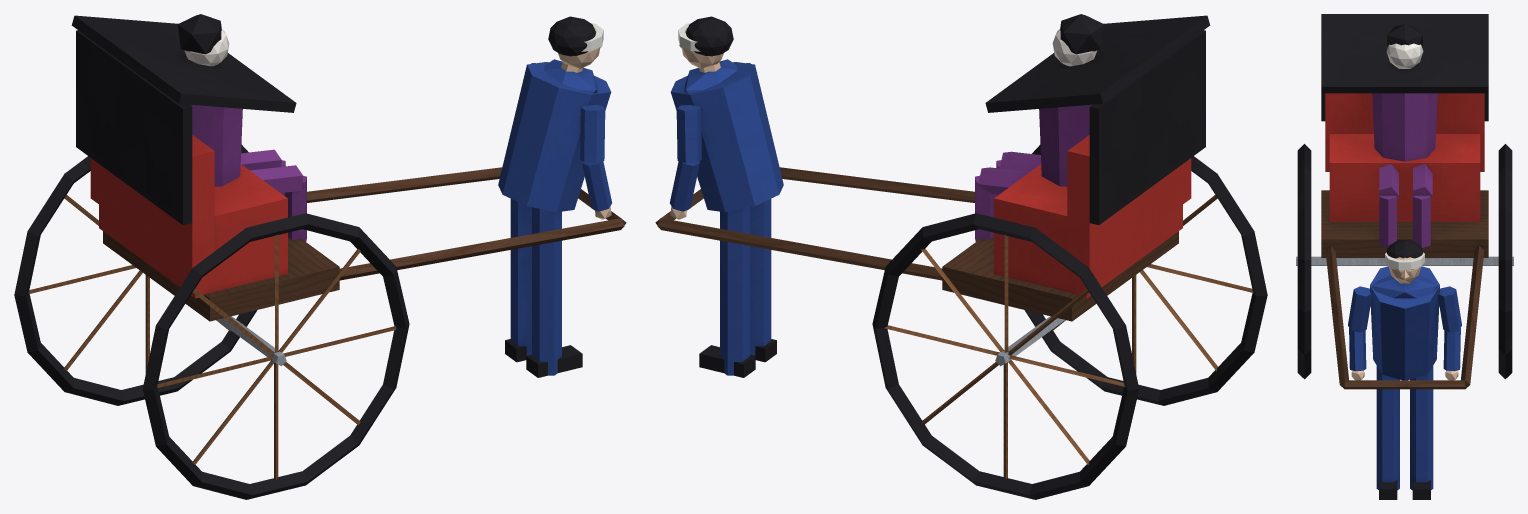
The model's file is rikscha_tex.glb.
3 views of the same model, side by side, from view 1: azimuth 30°, elevation 25°; view 2: azimuth 150°, elevation 25°; view 3: azimuth 270°, elevation 25° (orthographic). The views are drawn at different scales.
Parts seen in each view (by area): view 1: rikscha; view 2: rikscha; view 3: rikscha.
Boxes of the visible parts, x1,y1,x2,y2 form: rikscha: [14, 14, 626, 499]; rikscha: [655, 14, 1267, 499]; rikscha: [1296, 14, 1513, 499].
Bounding box in the file's own units: 2.85 × 2.24 × 1.3.
11 materials, 11 textured.
